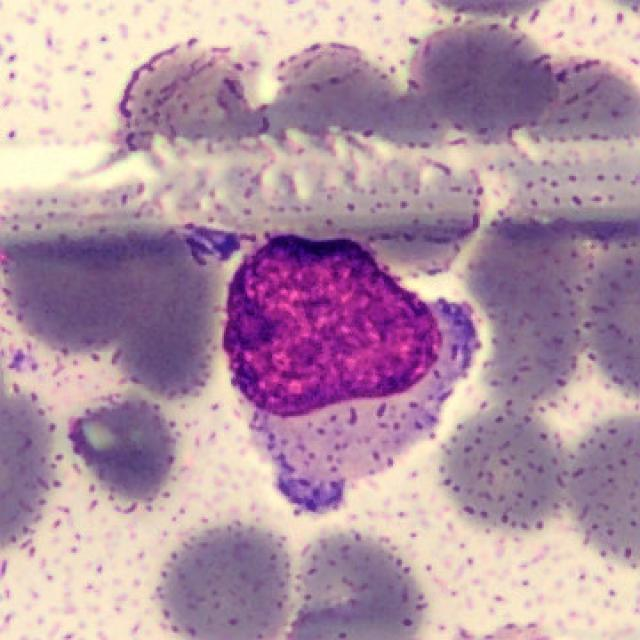Neutrofilo segmentado: (222, 236, 469, 500)
